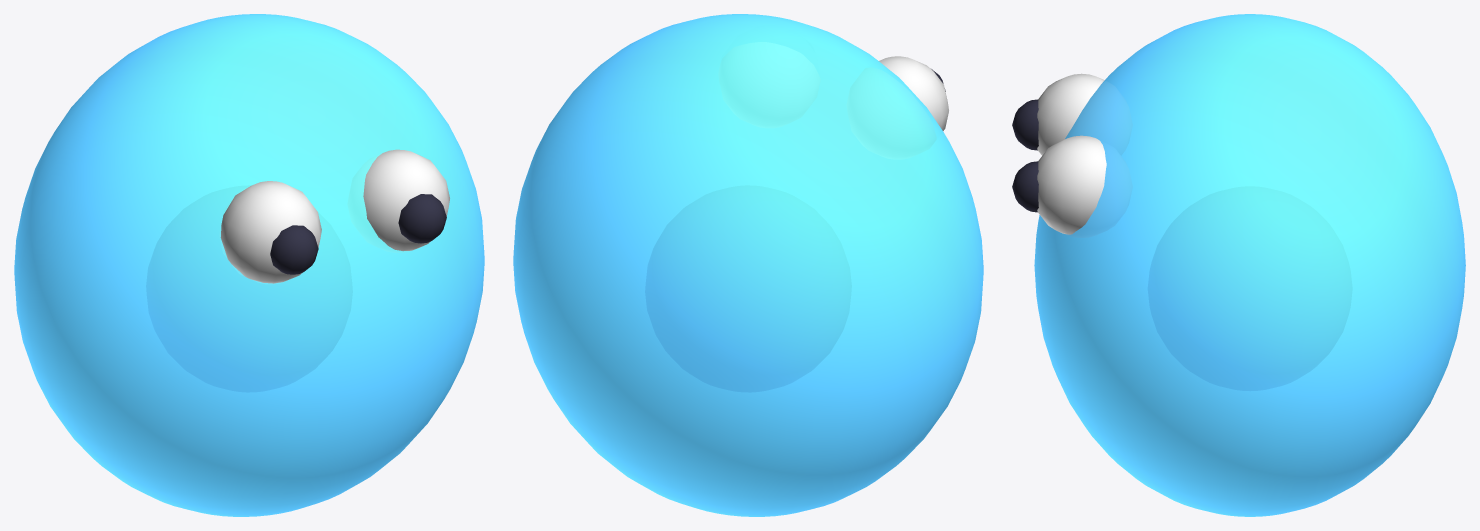
The model's file is blob_blue.glb.
3 views of the same model, side by side, from view 1: azimuth 30°, elevation 25°; view 2: azimuth 150°, elevation 25°; view 3: azimuth 270°, elevation 25° (orthographic).
Visible parts, largest first — view 1: Sphere, Sphere.002, Sphere.004, Sphere.003, Sphere.005; view 2: Sphere, Sphere.002; view 3: Sphere, Sphere.004, Sphere.002, Sphere.005, Sphere.003.
Boxes of the visible parts, x1,y1,x2,y2 form: Sphere: [14, 14, 484, 516]; Sphere.002: [220, 181, 321, 283]; Sphere.004: [363, 149, 449, 251]; Sphere.003: [270, 225, 318, 274]; Sphere.005: [398, 194, 446, 243]; Sphere: [513, 14, 983, 516]; Sphere.002: [879, 56, 948, 130]; Sphere: [1034, 14, 1465, 516]; Sphere.004: [1037, 135, 1106, 234]; Sphere.002: [1037, 73, 1104, 155]; Sphere.005: [1012, 161, 1038, 212]; Sphere.003: [1012, 99, 1038, 150].
Bounding box in the file's own units: 1.3 × 1.39 × 1.24.
